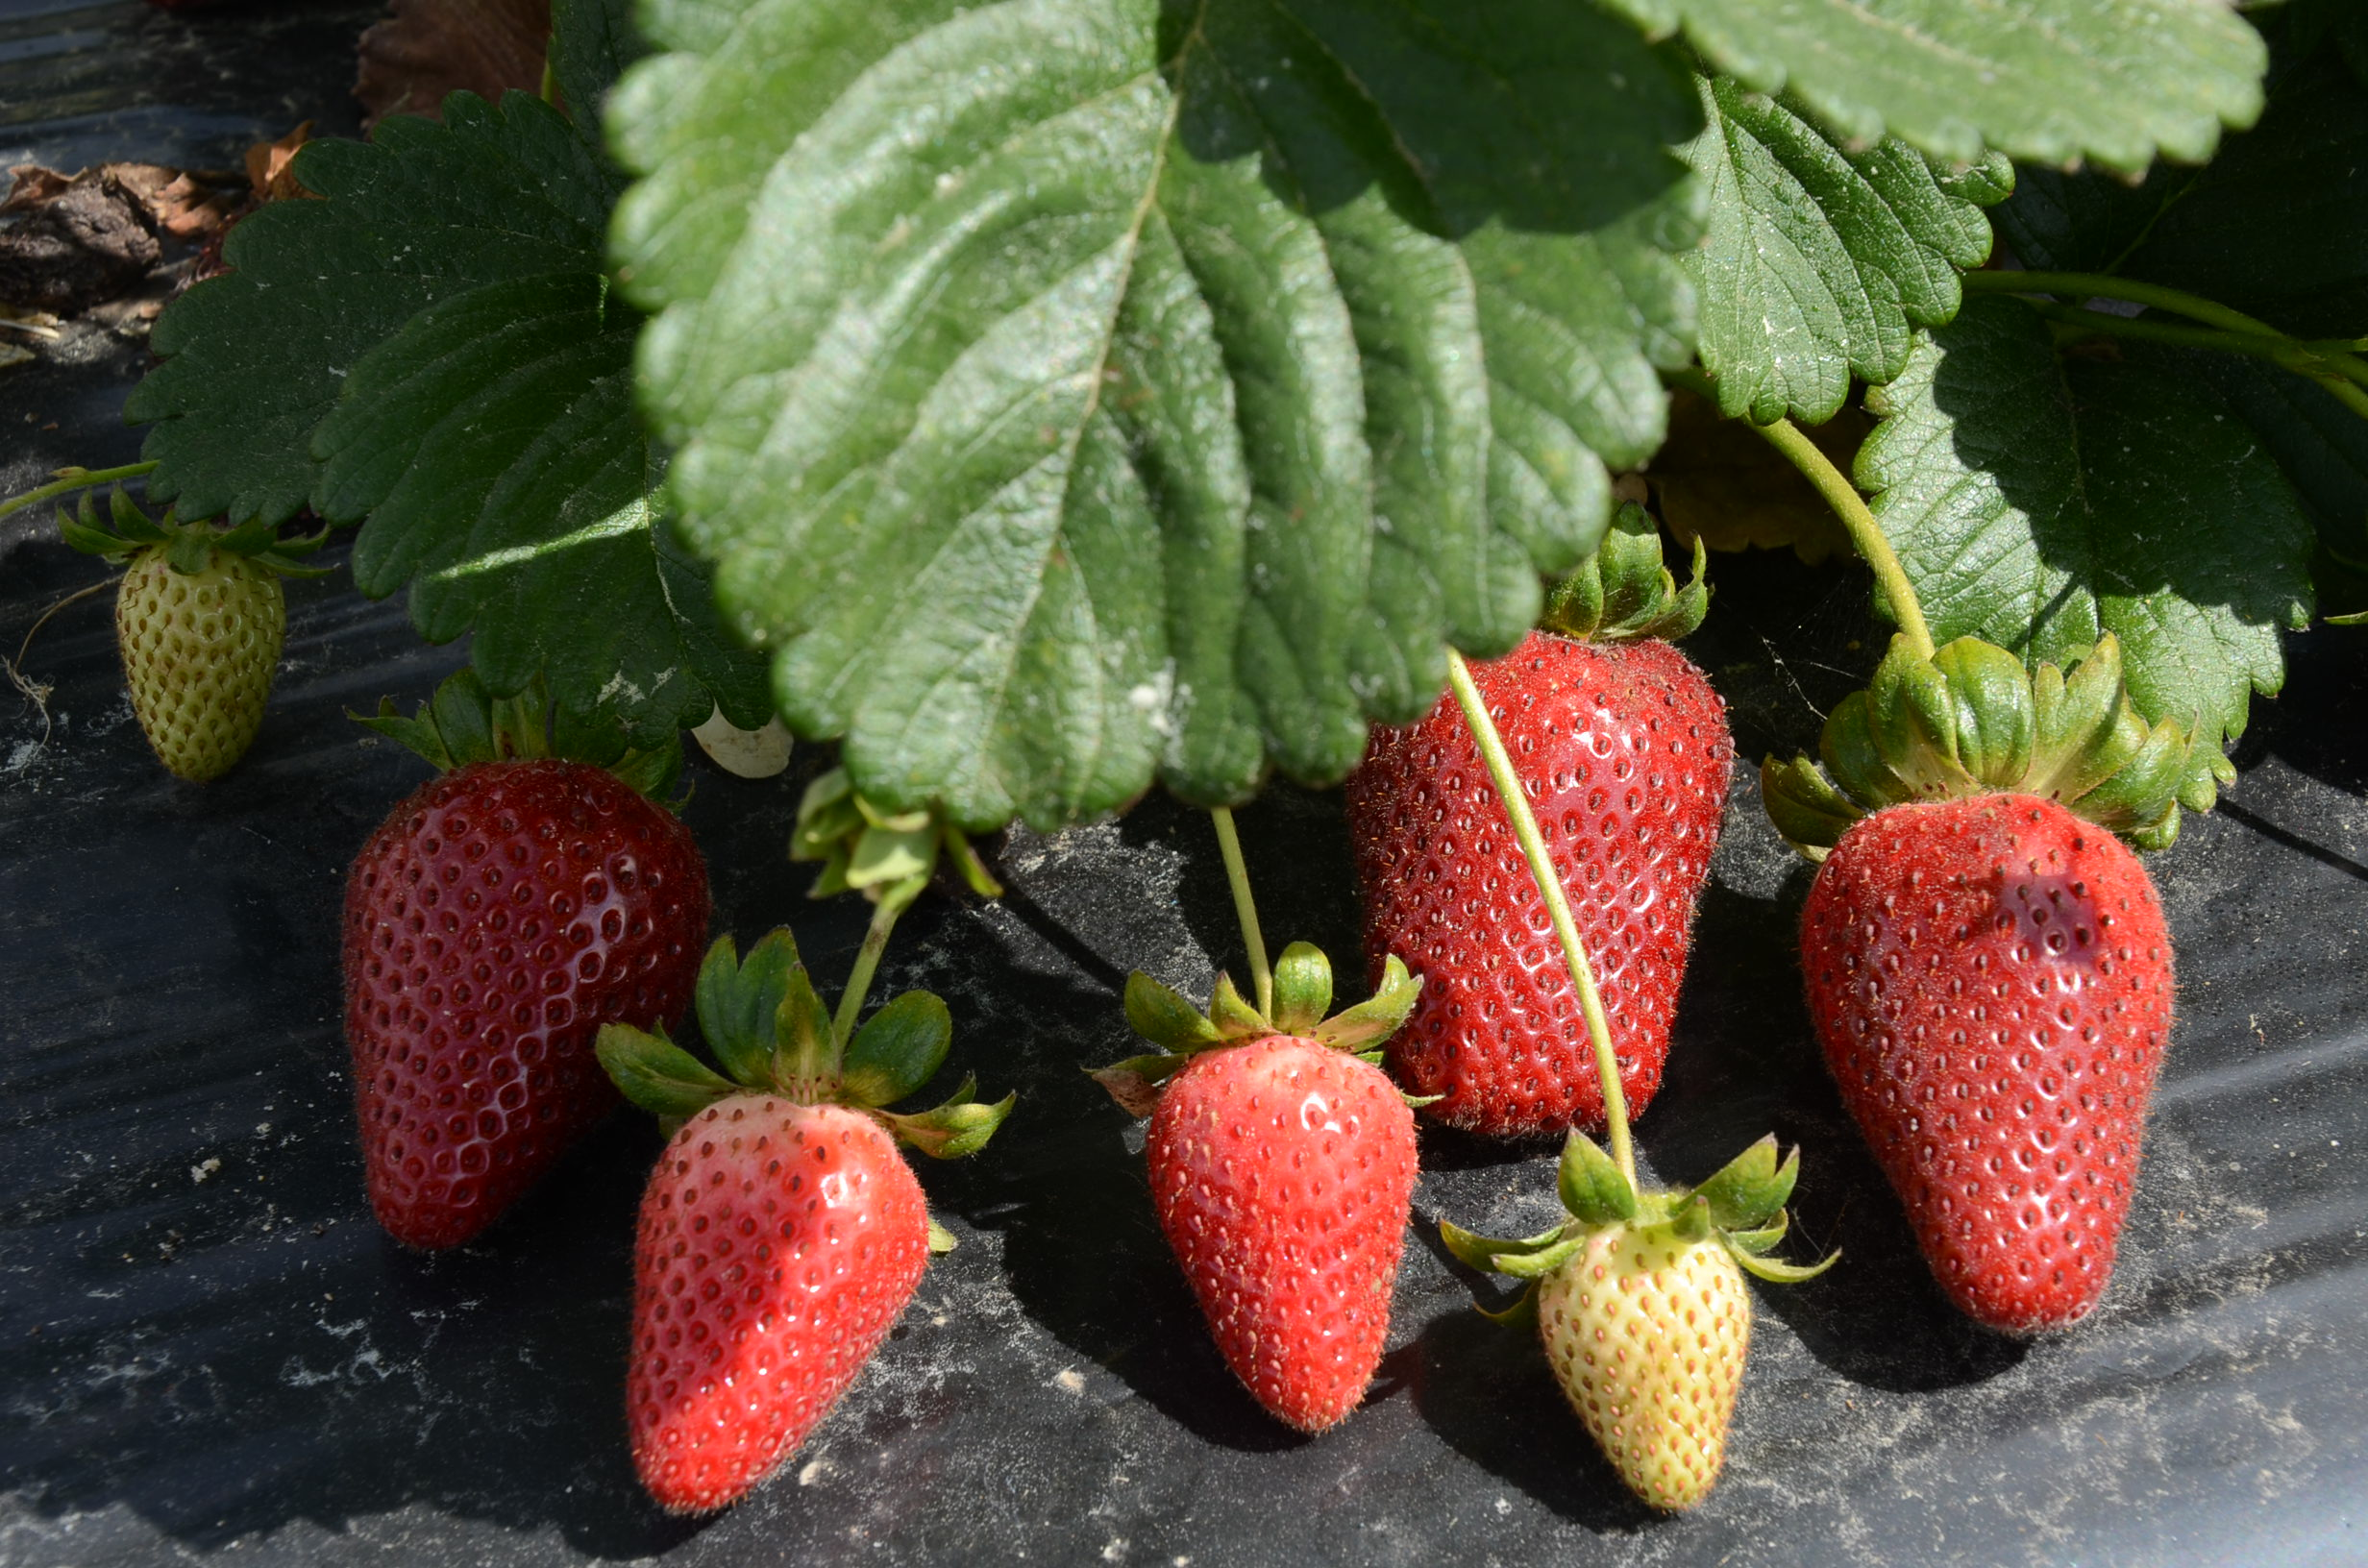StrawberryCone: (1773, 773, 2209, 1340), (317, 751, 712, 1262), (1131, 1027, 1426, 1442)
StrawberryCylindrical: (1328, 595, 1748, 1134)
StrawberryIrremovable: (609, 1080, 938, 1526), (1510, 1190, 1768, 1515), (103, 520, 301, 780)
StrawberryRemovable: (1782, 780, 2198, 1330), (1335, 602, 1740, 1136), (324, 756, 707, 1251), (1131, 1027, 1426, 1437)
